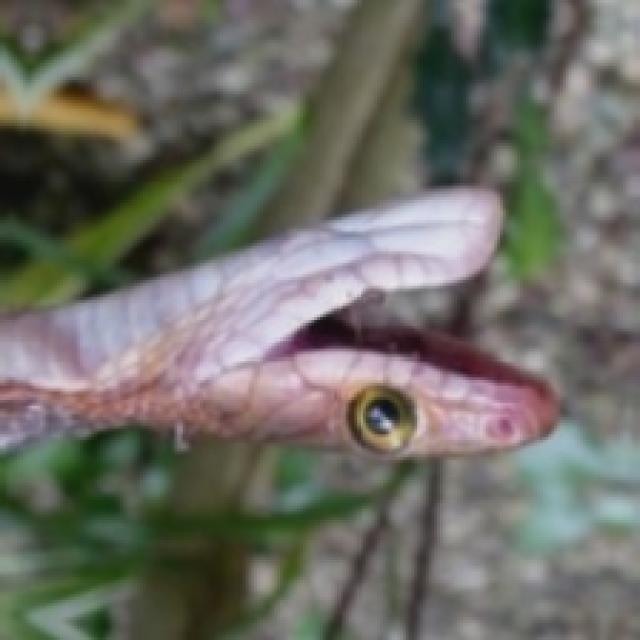reddish rat snake: (0, 186, 554, 454)
